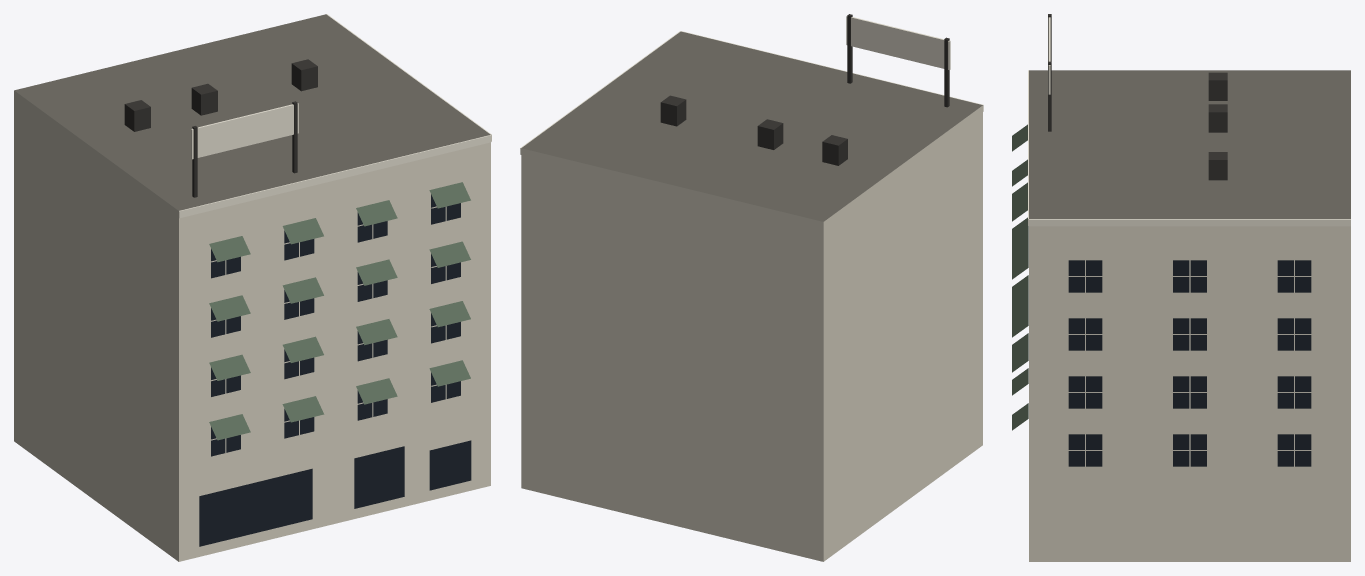
File: sam-peck-annex-1941.glb
The picture shows the model from 3 angles, left to right: view 1: azimuth 30°, elevation 25°; view 2: azimuth 150°, elevation 25°; view 3: azimuth 270°, elevation 25°; orthographic projection. The views are drawn at different scales.
Visible parts, largest first — view 1: sam_stucco, sam_roof, sam_glass, sam_awning, sam_trim, sam_dark, sam_sash; view 2: sam_stucco, sam_roof, sam_trim, sam_dark; view 3: sam_stucco, sam_roof, sam_glass, sam_awning, sam_trim, sam_dark, sam_sash.
Boxes of the visible parts, x1=… form: sam_stucco: x1=14, y1=90, x2=490, y2=561; sam_roof: x1=14, y1=14, x2=490, y2=210; sam_glass: x1=199, y1=194, x2=471, y2=546; sam_awning: x1=209, y1=182, x2=470, y2=440; sam_trim: x1=179, y1=14, x2=491, y2=218; sam_dark: x1=124, y1=59, x2=317, y2=197; sam_sash: x1=211, y1=206, x2=446, y2=452; sam_stucco: x1=521, y1=105, x2=982, y2=561; sam_roof: x1=521, y1=31, x2=982, y2=221; sam_trim: x1=520, y1=16, x2=983, y2=154; sam_dark: x1=660, y1=14, x2=949, y2=165; sam_stucco: x1=1029, y1=226, x2=1350, y2=561; sam_roof: x1=1029, y1=70, x2=1350, y2=218; sam_glass: x1=1068, y1=260, x2=1311, y2=466; sam_awning: x1=1012, y1=124, x2=1028, y2=430; sam_trim: x1=1028, y1=17, x2=1350, y2=226; sam_dark: x1=1048, y1=14, x2=1227, y2=180; sam_sash: x1=1068, y1=260, x2=1311, y2=466.
Bounding box in the file's own units: 18.76 × 24.1 × 18.
